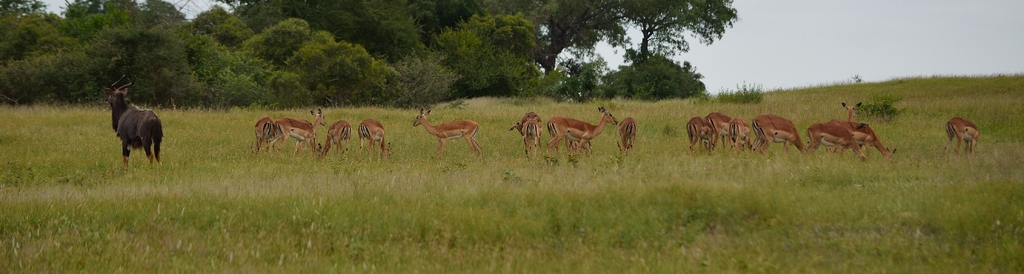Animal: (684, 101, 894, 160), (102, 73, 161, 170), (545, 106, 617, 157), (410, 107, 480, 154), (266, 106, 324, 157), (355, 117, 389, 157), (317, 118, 348, 157), (254, 115, 275, 152), (618, 115, 637, 154)
